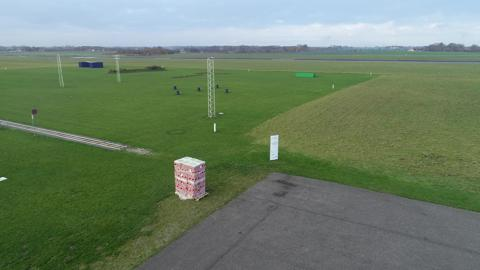RockwoolPallet: (173, 155, 207, 200)
